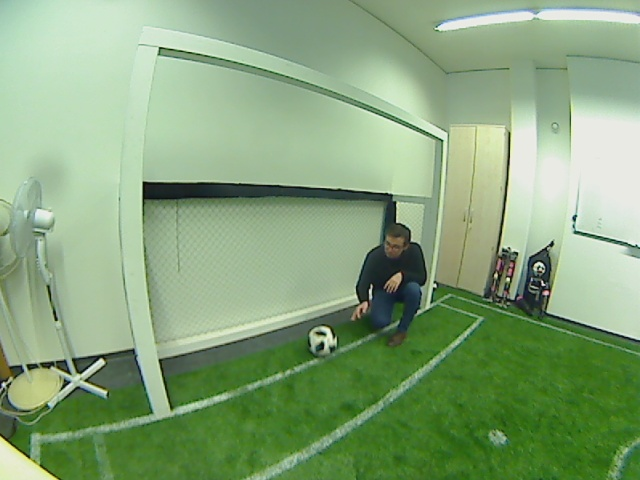ball: (306, 323, 338, 360)
